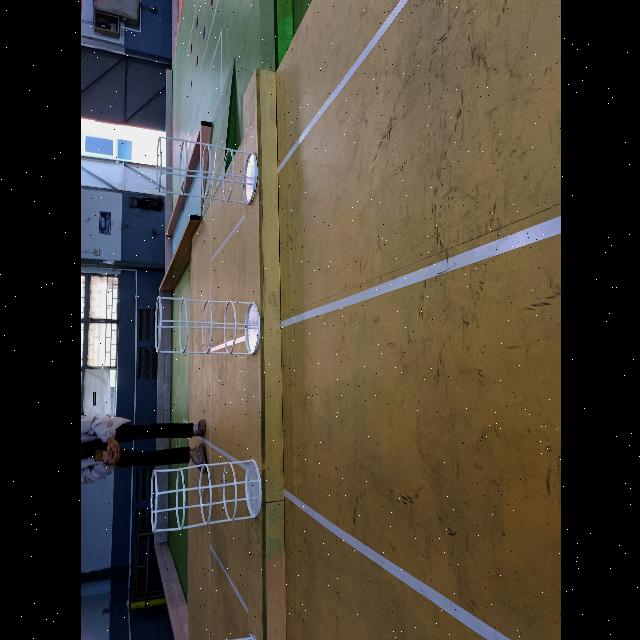S: (150, 136, 262, 208), (147, 458, 261, 528), (152, 295, 260, 357)
